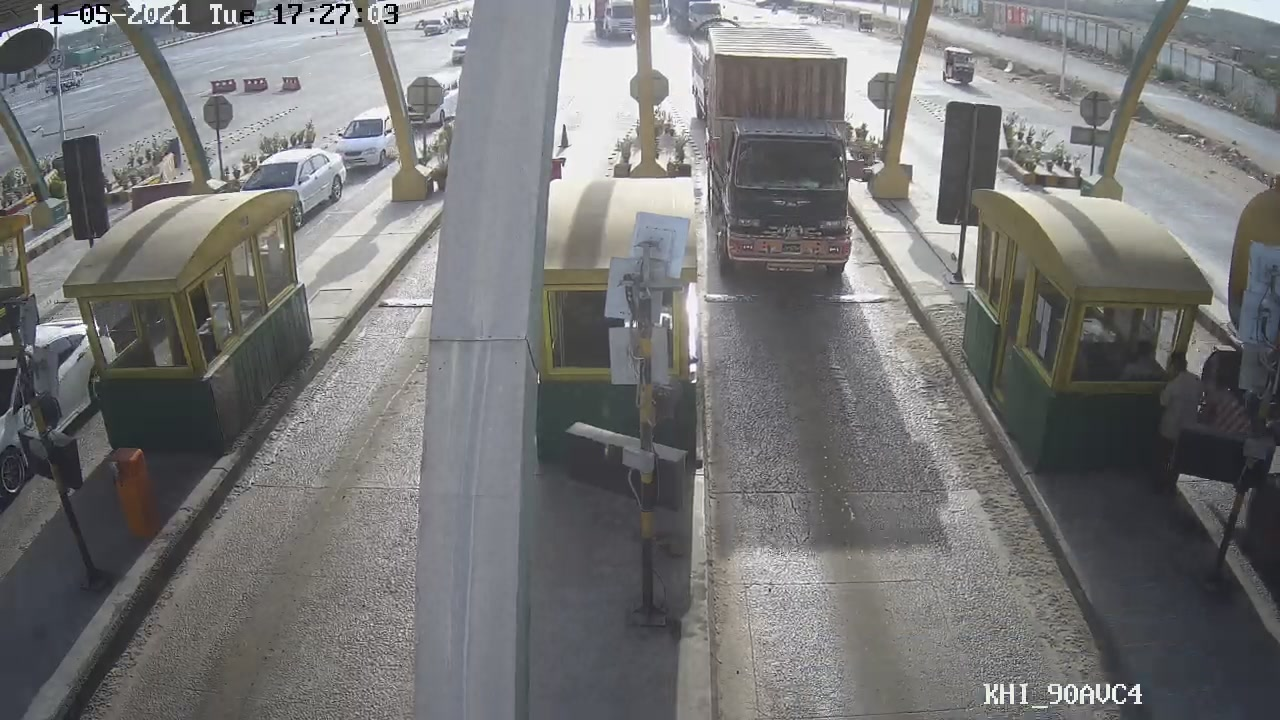F6: (691, 27, 867, 289)
